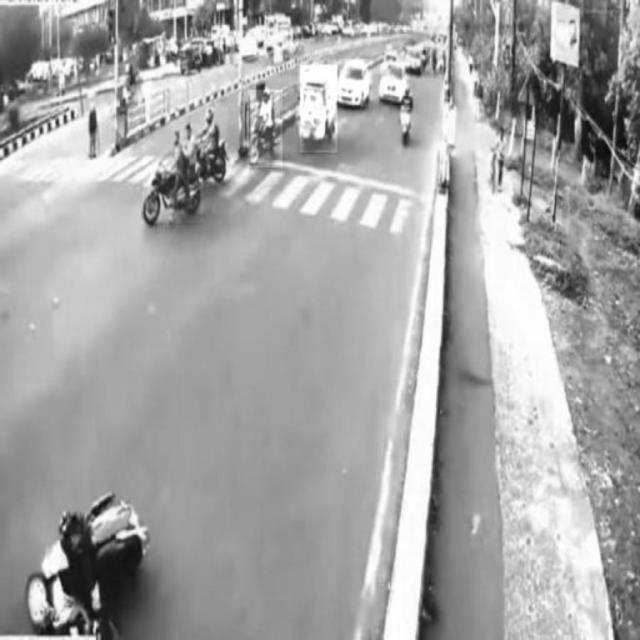vehicle: (143, 124, 204, 222), (300, 65, 337, 153), (248, 90, 283, 167), (201, 108, 228, 182), (339, 59, 373, 106), (380, 63, 410, 104)
